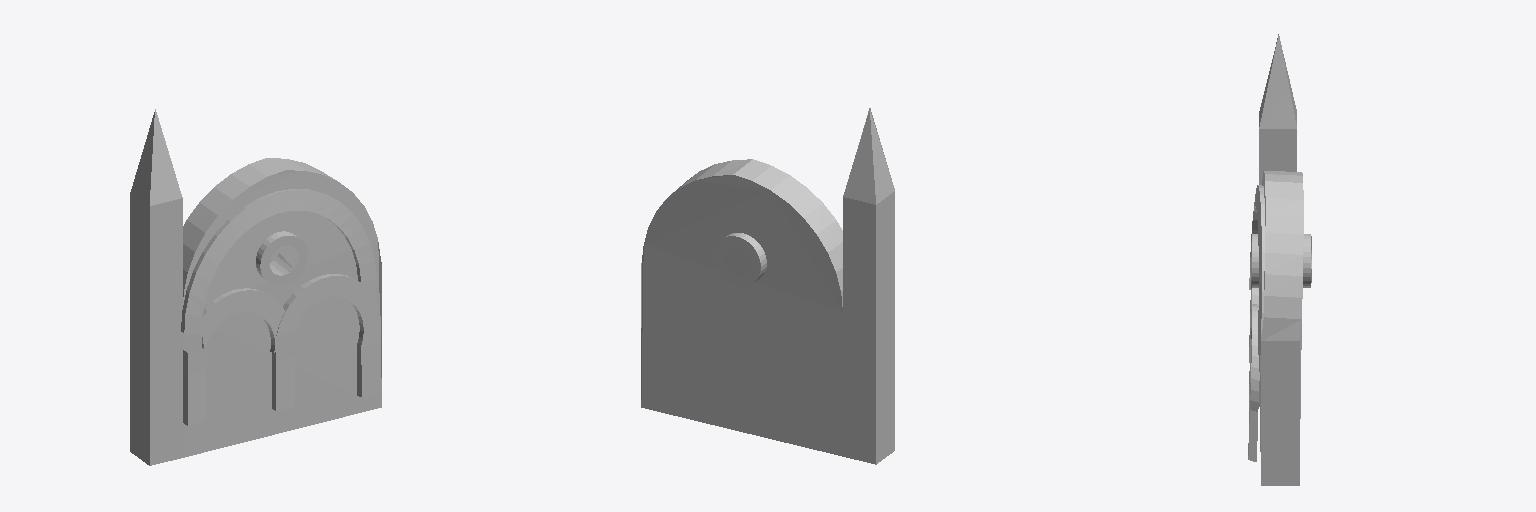
File: WALL2_fixed.obj
The picture shows the model from 3 angles: view 1: azimuth 30°, elevation 25°; view 2: azimuth 150°, elevation 25°; view 3: azimuth 270°, elevation 25°; orthographic projection.
Visible parts, largest first — view 1: Circle.002_Circle.004; view 2: Circle.002_Circle.004; view 3: Circle.002_Circle.004.
Part boxes in pixels (bbox=[...]): Circle.002_Circle.004: bbox=[130, 109, 381, 465]; Circle.002_Circle.004: bbox=[641, 108, 894, 464]; Circle.002_Circle.004: bbox=[1248, 34, 1311, 485].
Size of the model in its own units: 14.1 by 20.07 by 3.32.